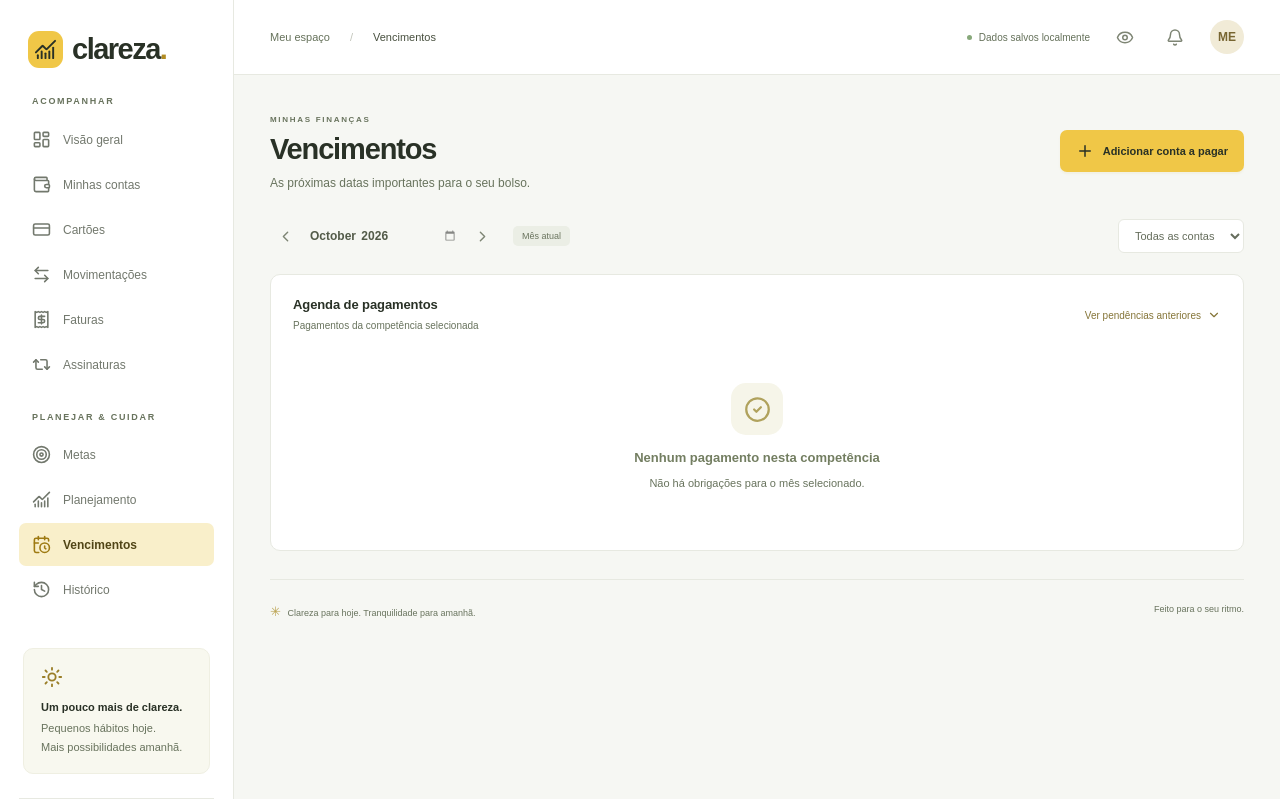
Fluxos principais › mantém pendências anteriores fechadas e mostra competência e ano quando solicitado
Expected: the heading "Agenda de pagamentos" is shown, [293,297,438,312]
Expected: the text "Fatura Cartão BB" is not shown
Click the button "Ver pendências anteriores": (1153, 315) [1085,303,1221,327]
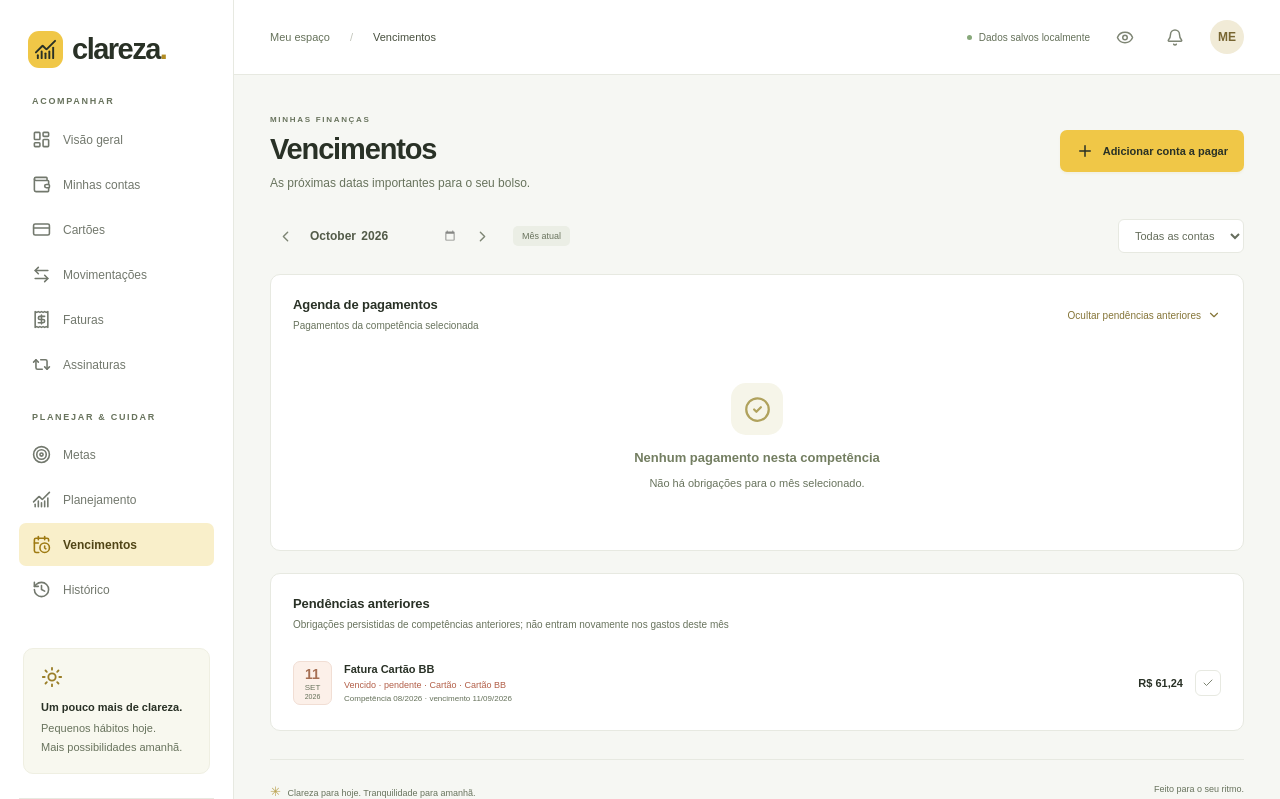
Expected: the text "Fatura Cartão BB" is shown, [344,663,434,675]
Expected: the text "Competência 08/2026 · vencimento 11/09/2026" is shown, [344,694,512,703]
Expected: the text "2026" is shown, [305,693,320,700]
